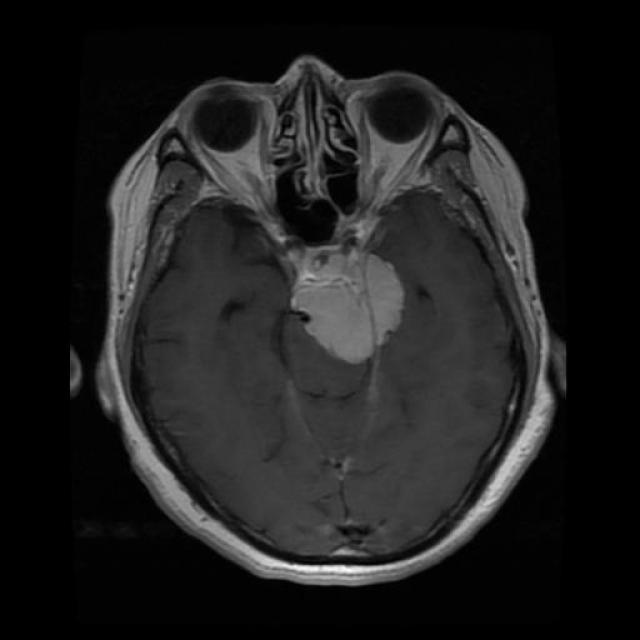meningioma: (290, 244, 402, 364)
